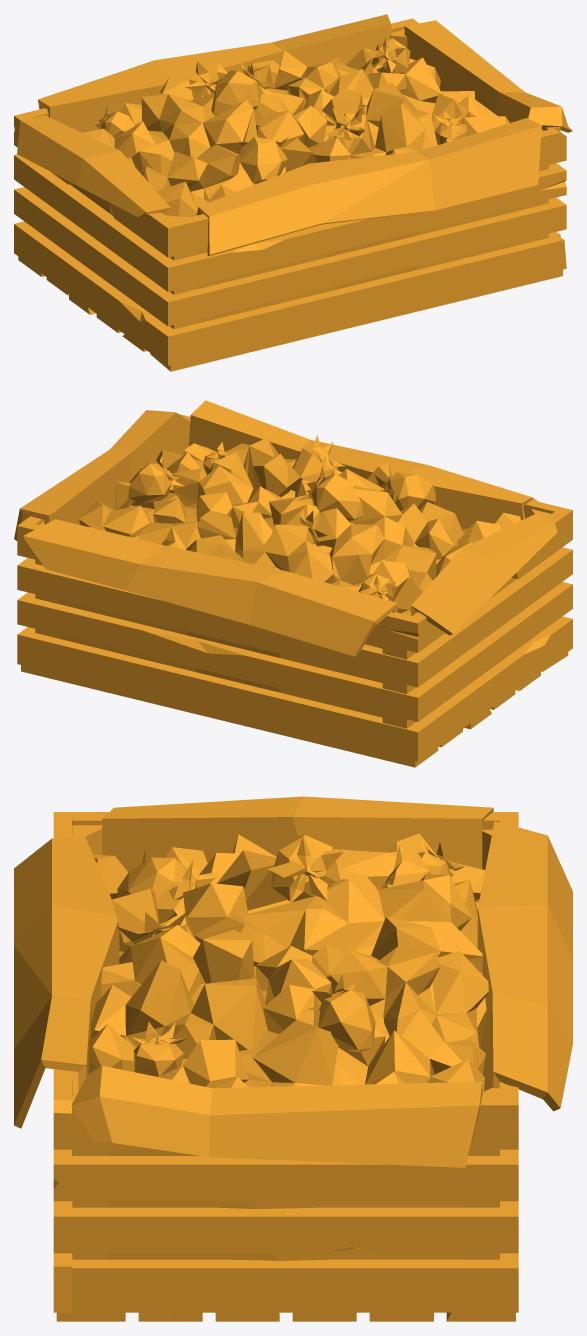
Rendered from SM_Crate_Wood_Medium_Paper_Strawberries.fbx.
The picture shows the model from 3 angles, top to bottom: view 1: azimuth 30°, elevation 25°; view 2: azimuth 150°, elevation 25°; view 3: azimuth 270°, elevation 25°; orthographic projection. The views are drawn at different scales.
Visible parts, largest first — view 1: crate-wood-medium-paper-strawberries; view 2: crate-wood-medium-paper-strawberries; view 3: crate-wood-medium-paper-strawberries.
Part boxes in pixels (x1,y1,x2,y2): crate-wood-medium-paper-strawberries: [14, 14, 572, 371]; crate-wood-medium-paper-strawberries: [14, 400, 572, 767]; crate-wood-medium-paper-strawberries: [14, 796, 572, 1321].
Bounding box in the file's own units: 0.663 × 0.3058 × 0.4887.
